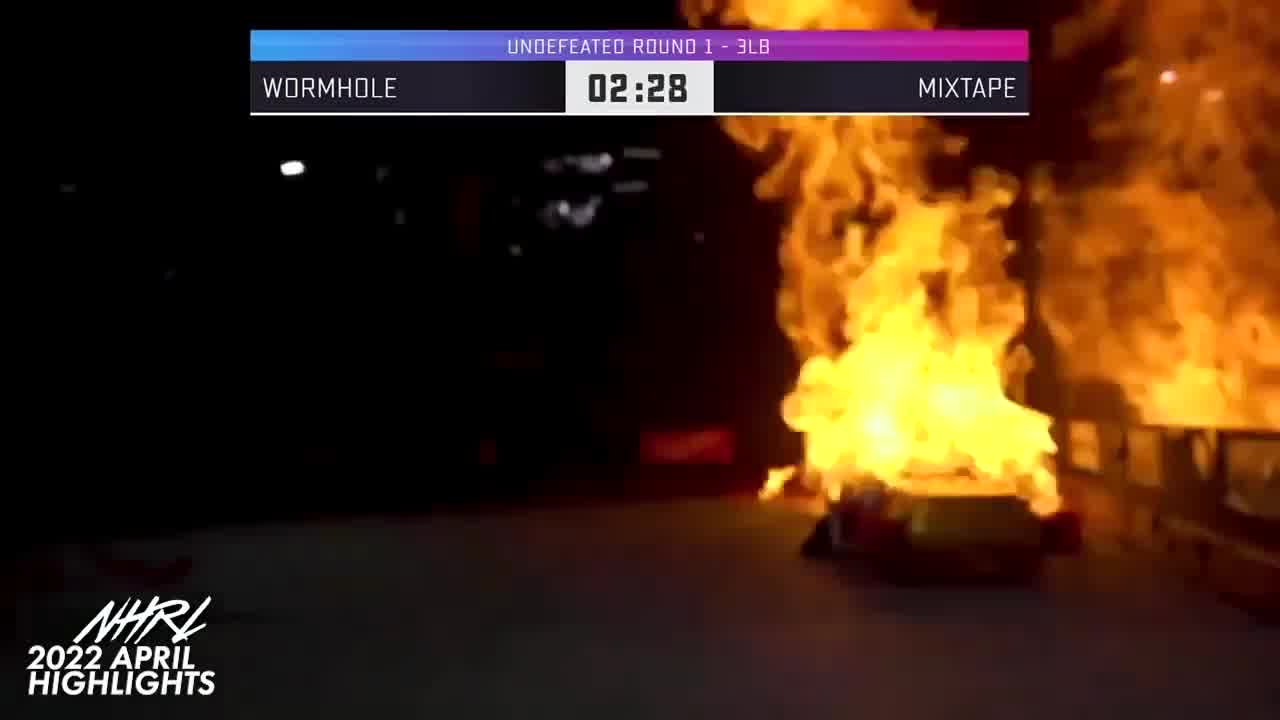combatbot: (794, 461, 1048, 593)
